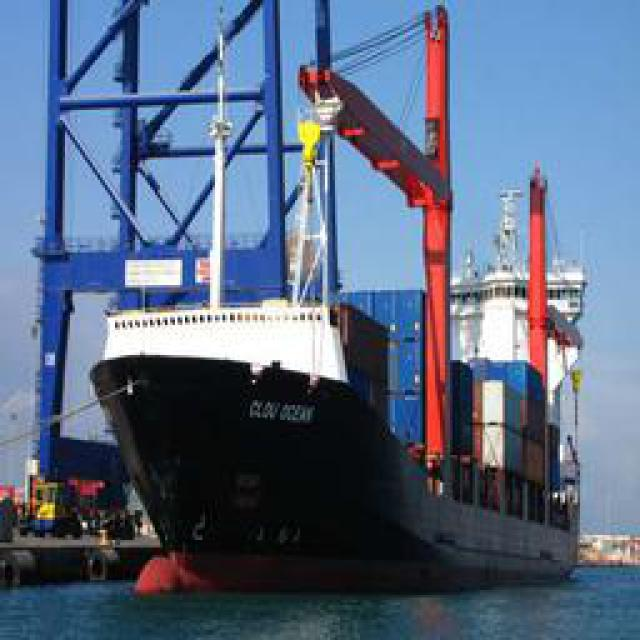Ship: (77, 226, 585, 586)
